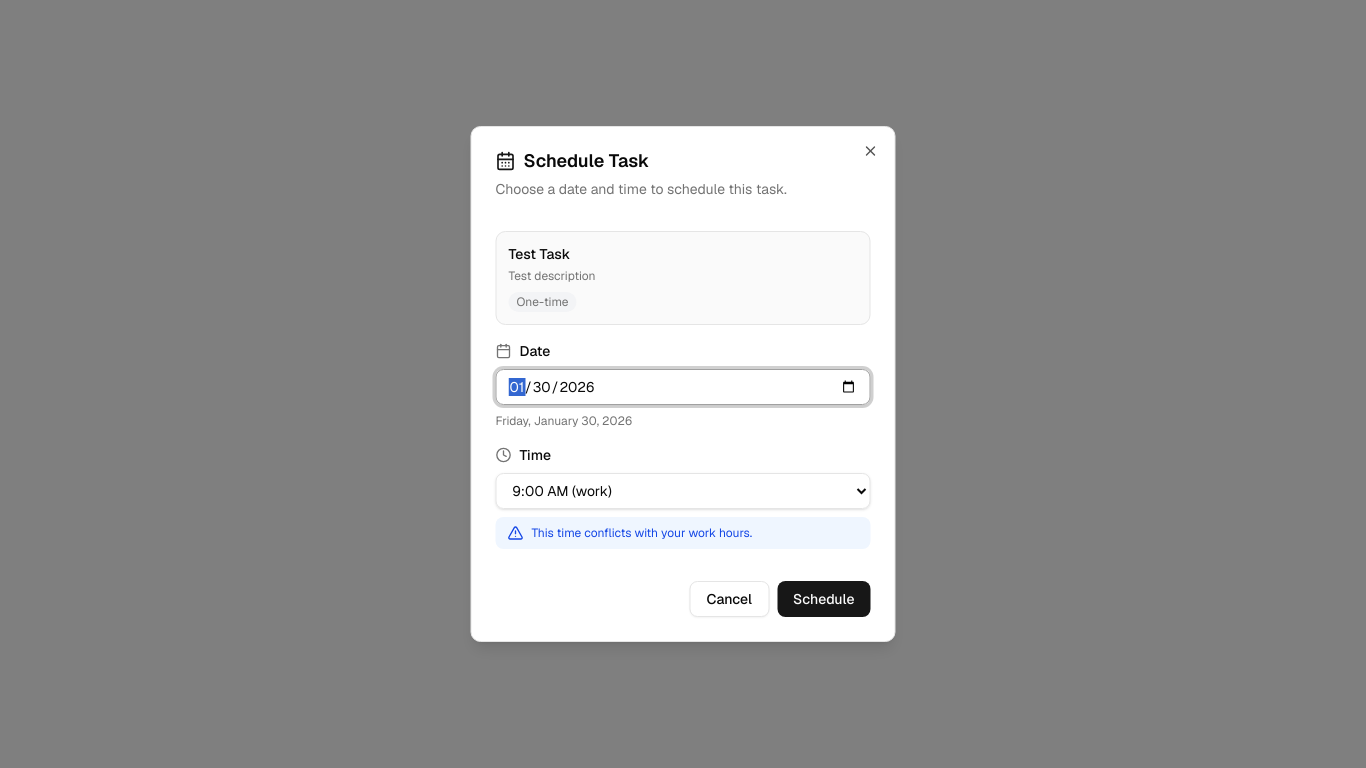
ScheduleTaskDialog › conflict warning › shows sleep conflict warning when selecting sleep hours
Select "2:00 AM (sleep)" in the dropdown with test id "schedule-task-dialog-time-select": (683, 491) [496,473,870,509]
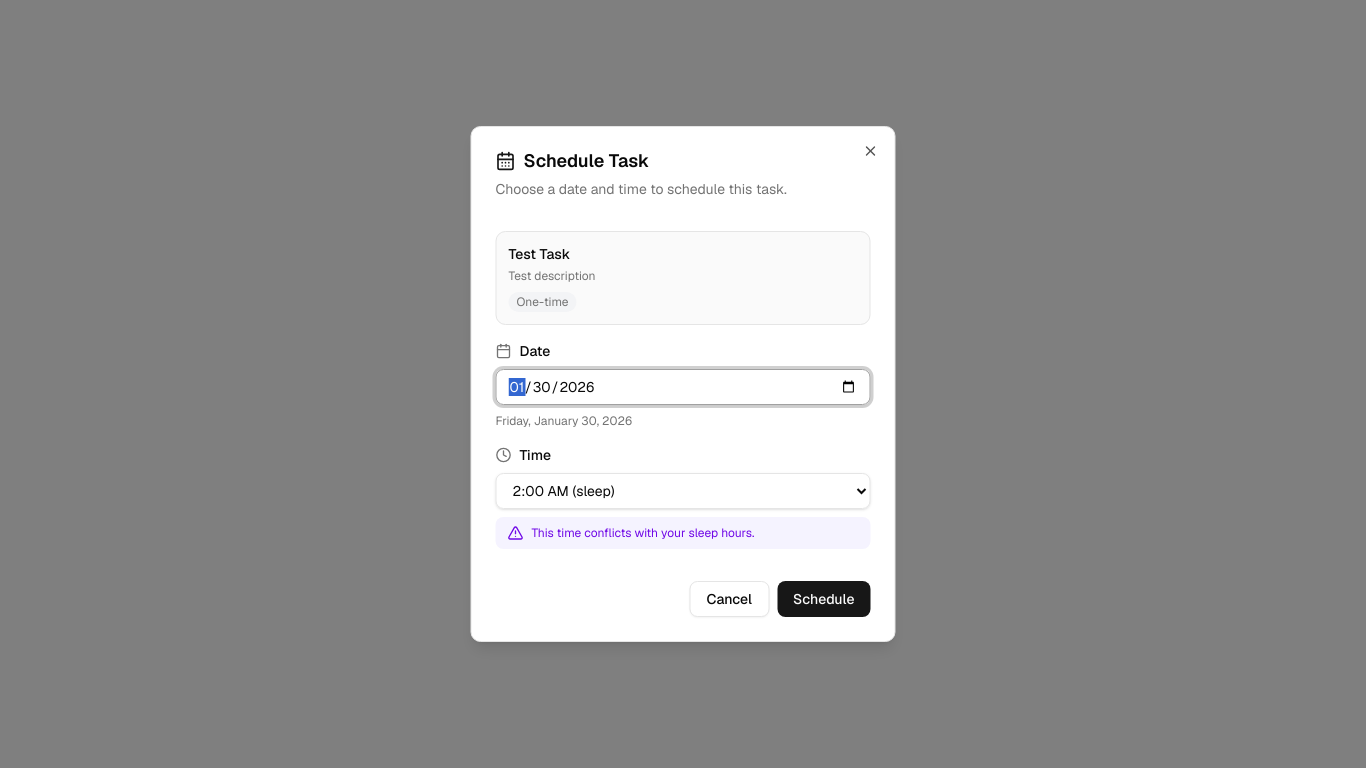
Now the element with test id "schedule-task-dialog-conflict-warning" shows "sleep hours", box [496,517,870,549]
